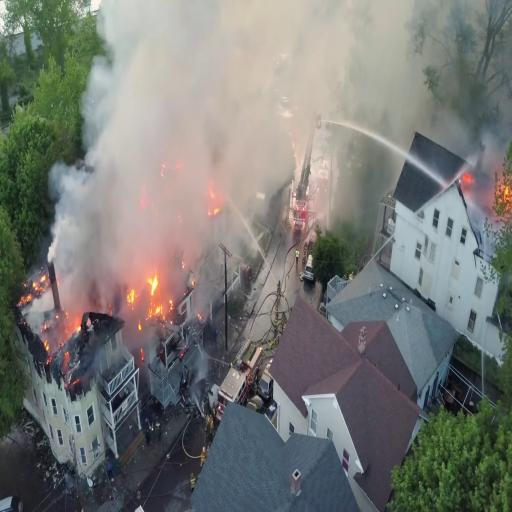smoke: (112, 6, 292, 133), (90, 148, 214, 241)
